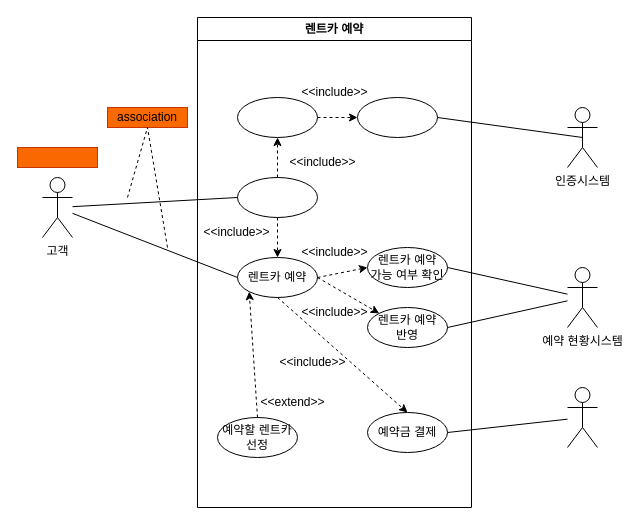
This 640x525 diagram has some shape labels left out. Each missing label, with the box of its shape:
actor: (16, 146, 98, 168)
결제 시스템: (566, 386, 598, 448)
로그인: (236, 176, 318, 218)
사용자 인증: (236, 96, 318, 138)
유효한 고객 확인: (356, 96, 438, 138)
